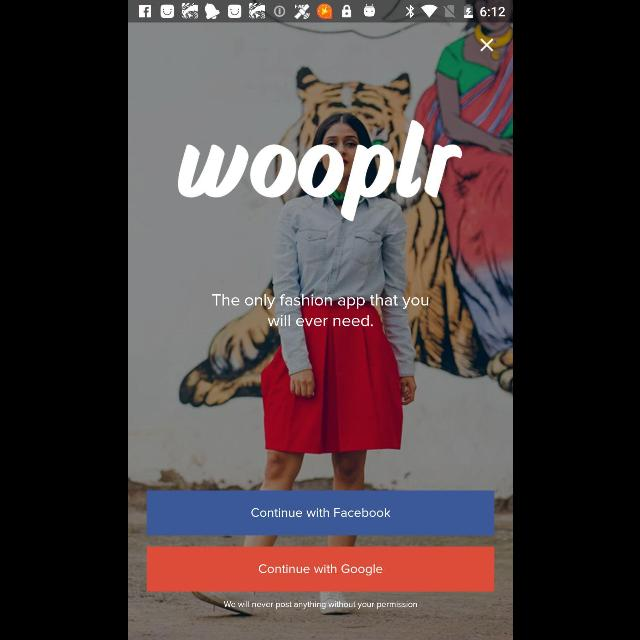backgroundimage: (128, 22, 512, 640)
image: (176, 120, 462, 222)
text: (212, 294, 428, 328), (224, 601, 416, 609)
textbutton: (146, 546, 494, 592), (146, 490, 494, 536)
uppertaskbar: (128, 1, 512, 23)
